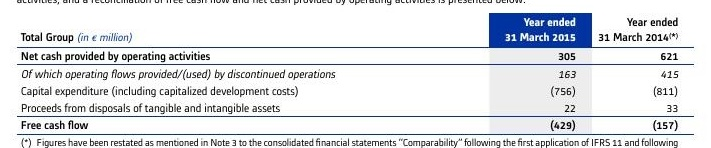table: (0, 0, 711, 148)
